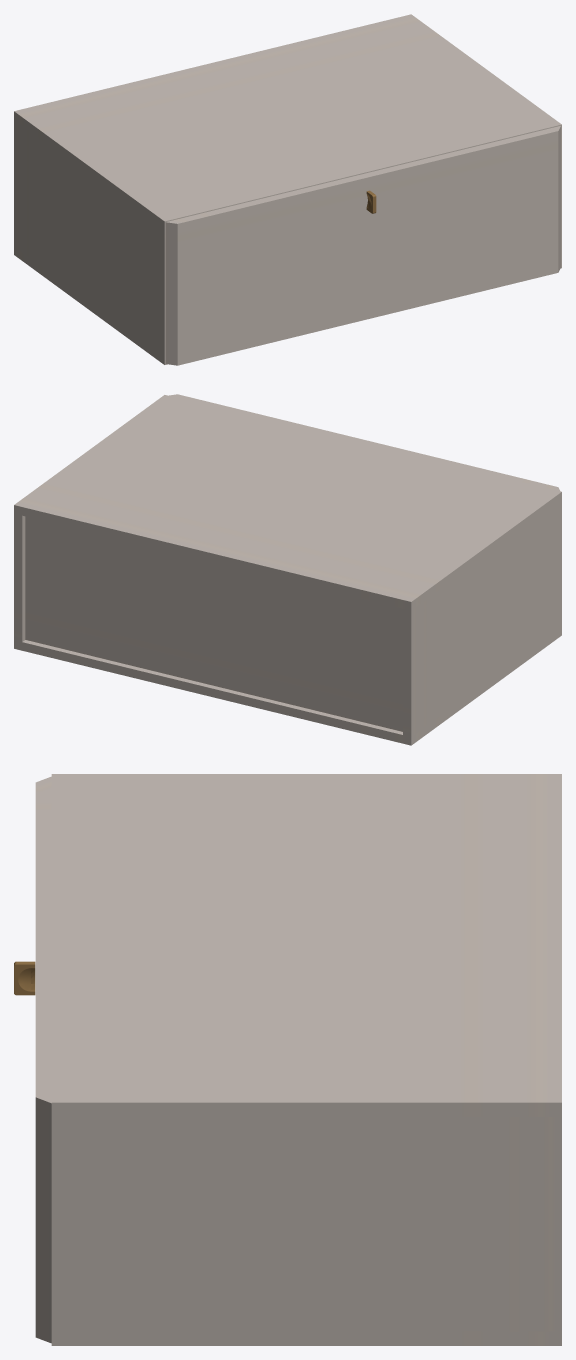
The picture shows the model from 3 angles, top to bottom: view 1: azimuth 30°, elevation 25°; view 2: azimuth 150°, elevation 25°; view 3: azimuth 270°, elevation 25°; orthographic projection. The views are drawn at different scales.
Parts seen in each view (by area): view 1: Object_85.009; view 2: Object_85.009; view 3: Object_85.009.
Boxes of the visible parts, box(x1,y1,x2,y2) form: Object_85.009: box(14, 14, 561, 365); Object_85.009: box(14, 394, 561, 745); Object_85.009: box(14, 774, 561, 1345).
Size of the model in its own units: 0.868 by 0.3 by 0.6121.
Materials: 2 (2 with a texture image).
